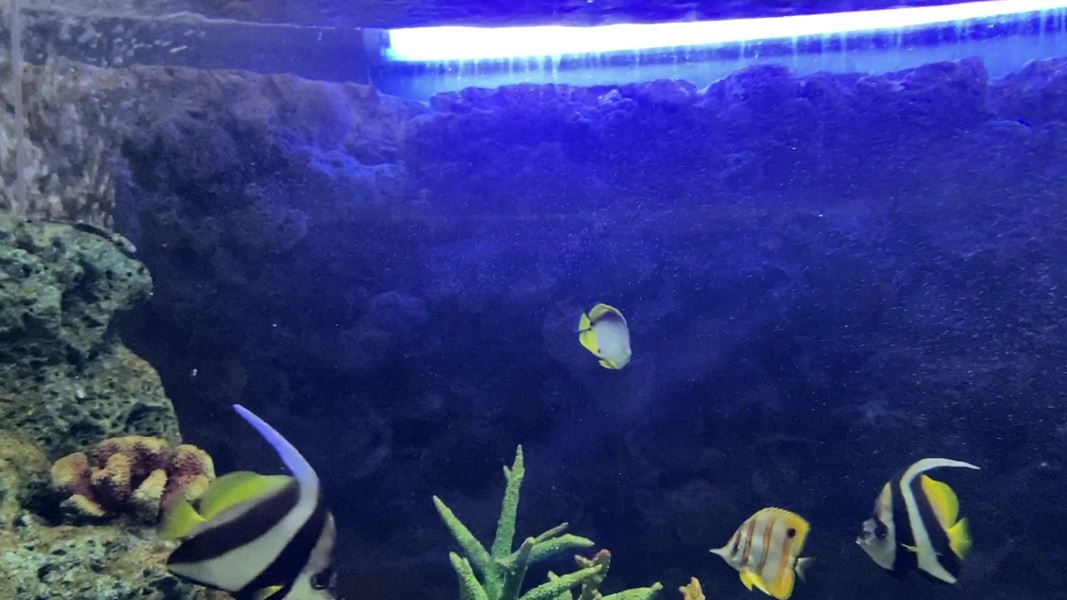Black-backed butterflyfish: (564, 297, 643, 377)
